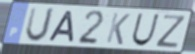2: (77, 10, 106, 46)
A: (47, 10, 76, 43)
K: (104, 12, 132, 46)
U: (23, 5, 57, 44), (130, 12, 161, 48)
Z: (154, 14, 187, 49)
